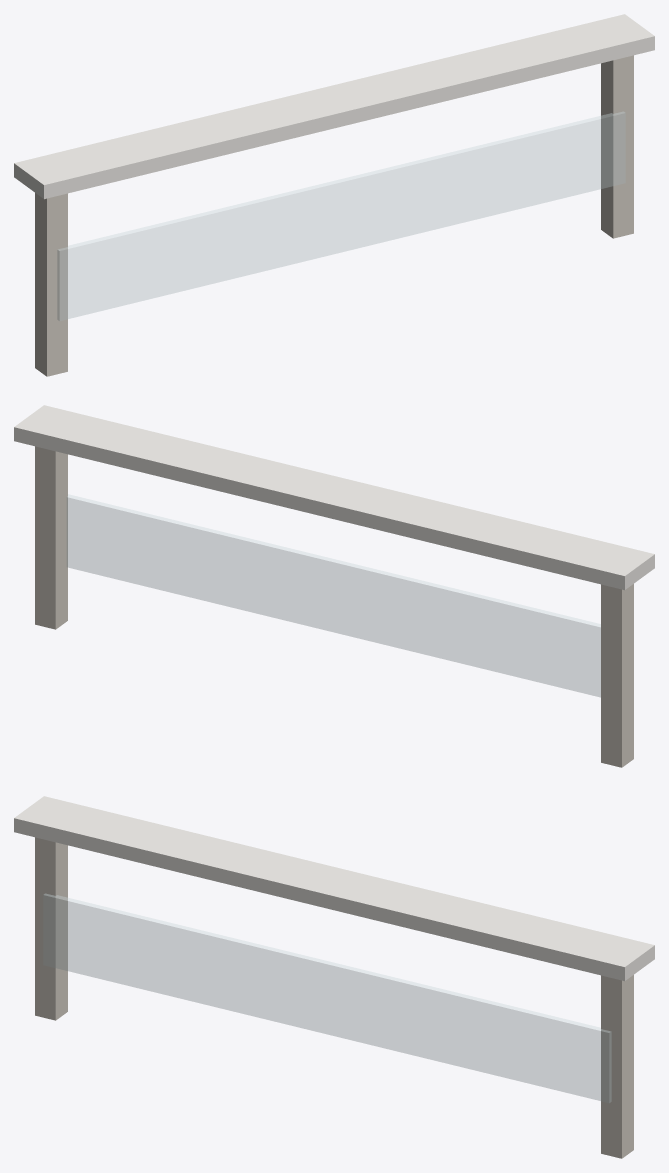
File: gate-entry.glb
3 views of the same model, one above another, from view 1: azimuth 30°, elevation 25°; view 2: azimuth 150°, elevation 25°; view 3: azimuth 330°, elevation 25° (orthographic).
Parts seen in each view (by area): view 1: spatial-root; view 2: spatial-root; view 3: spatial-root.
Part boxes in pixels (<box>): spatial-root: <box>14,14,654,376</box>; spatial-root: <box>14,405,654,767</box>; spatial-root: <box>14,796,654,1158</box>.
Size of the model in its own units: 8.2 by 2.58 by 0.7.
